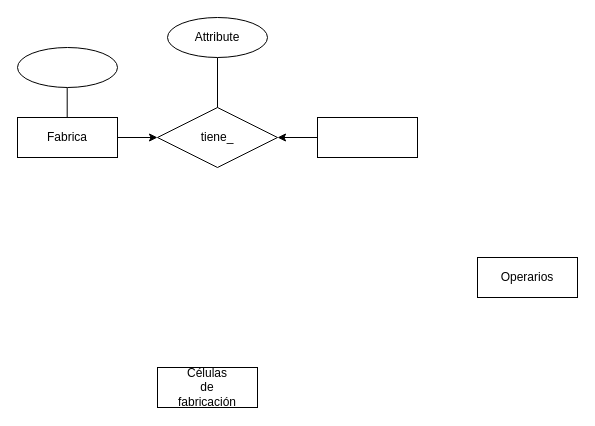
The diagram is 595 pixels wide and 426 high, and some of its shapes have lost their labels. Each missing label, with the box of its shape:
ID_fabrica: (16, 46, 118, 88)
Talleres: (316, 116, 418, 158)
